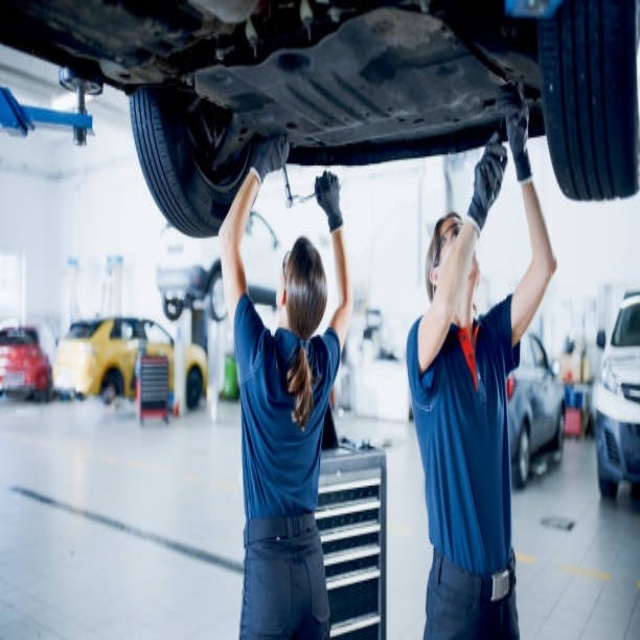Gafas: (432, 220, 465, 259), (278, 246, 292, 300)
Guantes: (468, 134, 508, 234), (499, 84, 534, 182), (249, 132, 290, 189), (314, 170, 344, 233)
